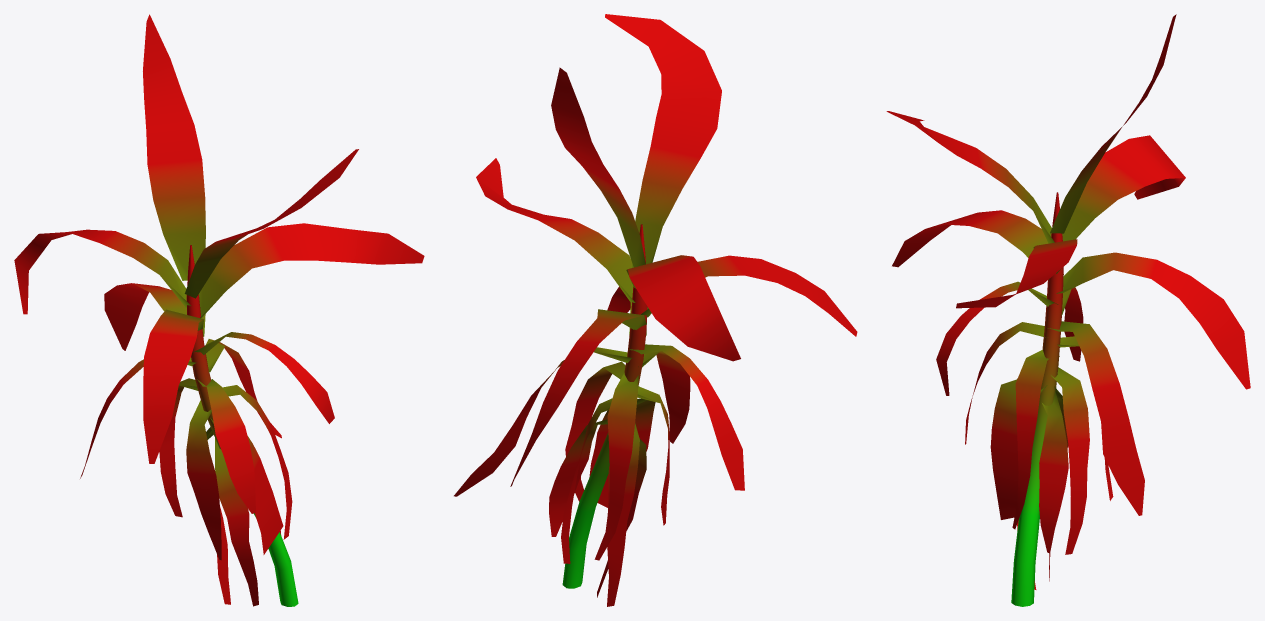
Rendered from Dragon Tree_LOD1_Var4_sikoN.fbx.
3 renders of one model, left to right at view 1: azimuth 30°, elevation 25°; view 2: azimuth 150°, elevation 25°; view 3: azimuth 270°, elevation 25°, orthographic. The views are drawn at different scales.
Visible parts, largest first — view 1: _5816_Var4_LOD1; view 2: _5816_Var4_LOD1; view 3: _5816_Var4_LOD1.
Boxes of the visible parts, x1,y1,x2,y2 form: _5816_Var4_LOD1: [14, 14, 424, 606]; _5816_Var4_LOD1: [454, 14, 857, 606]; _5816_Var4_LOD1: [886, 14, 1250, 606].
Size of the model in its own units: 35.33 by 59.18 by 34.96.
